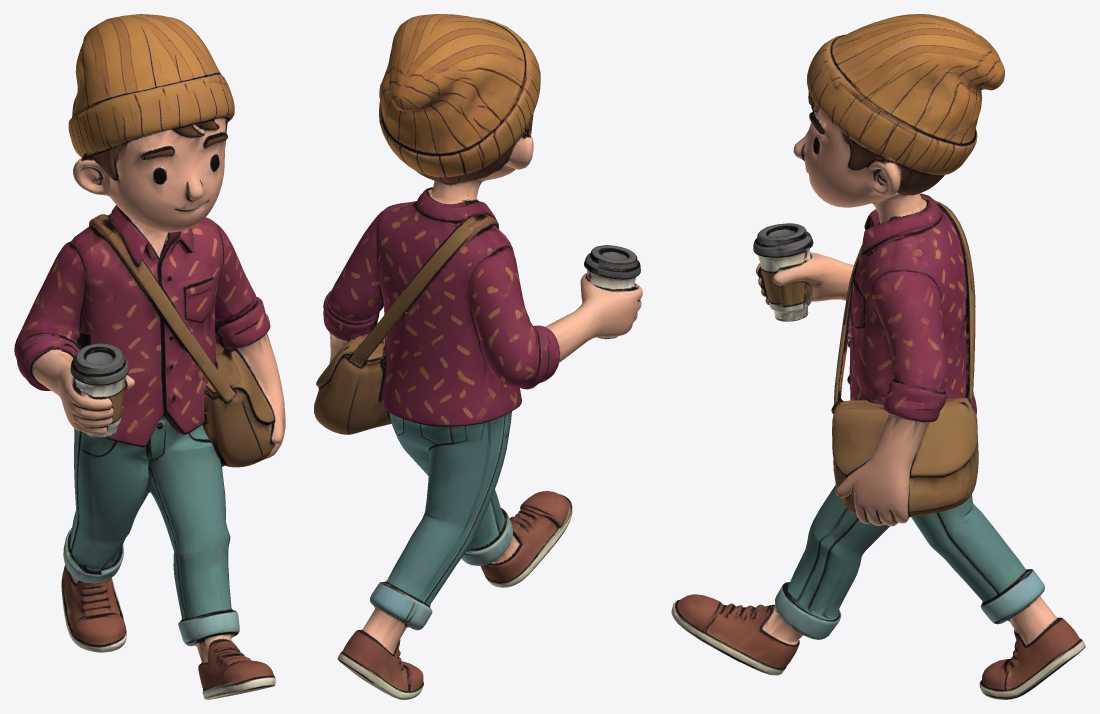
The model's file is getkong-ped10.glb.
3 views of the same model, side by side, from view 1: azimuth 30°, elevation 25°; view 2: azimuth 150°, elevation 25°; view 3: azimuth 270°, elevation 25° (orthographic). The views are drawn at different scales.
Parts seen in each view (by area): view 1: Mesh_0; view 2: Mesh_0; view 3: Mesh_0.
Boxes of the visible parts, x1=… form: Mesh_0: x1=14, y1=14, x2=285, y2=699; Mesh_0: x1=314, y1=14, x2=642, y2=699; Mesh_0: x1=671, y1=14, x2=1085, y2=699.
Size of the model in its own units: 0.7996 by 1.9 by 1.06.
Materials: 1 (1 with a texture image).
